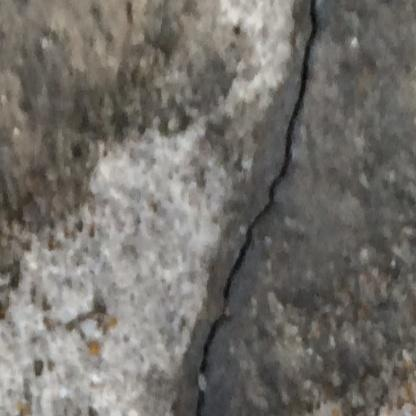Cracks: (196, 0, 331, 379), (190, 386, 210, 416)
